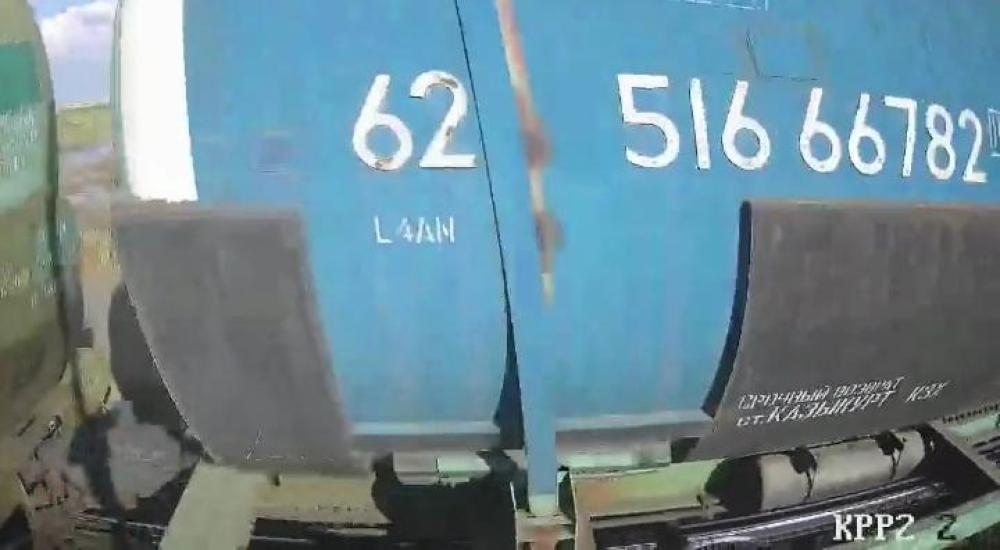Wagon-number: (610, 64, 990, 188)
